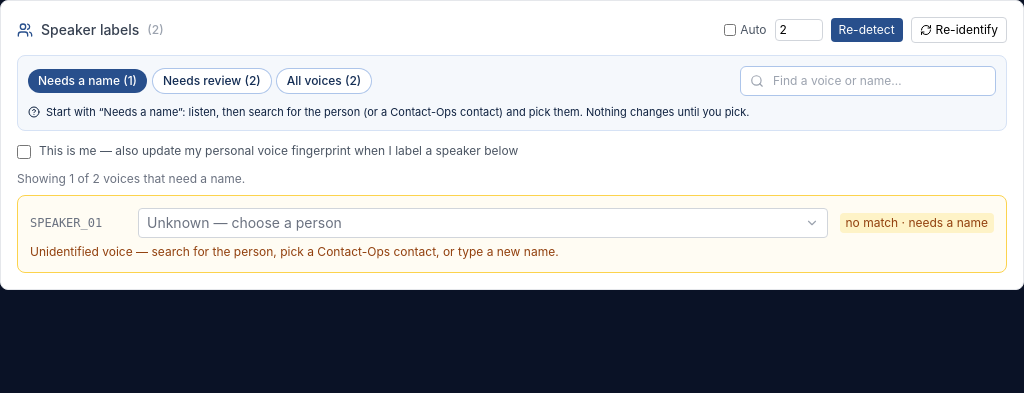
Test: SpeakerTagger › surfaces the auto-match similarity badge when reviewing all voices
The image size is (1024, 393).
Expected: the text "SPEAKER_01" is shown, [30,216,102,230]
Click the button "All voices (2)": (324, 81) [277,69,371,93]
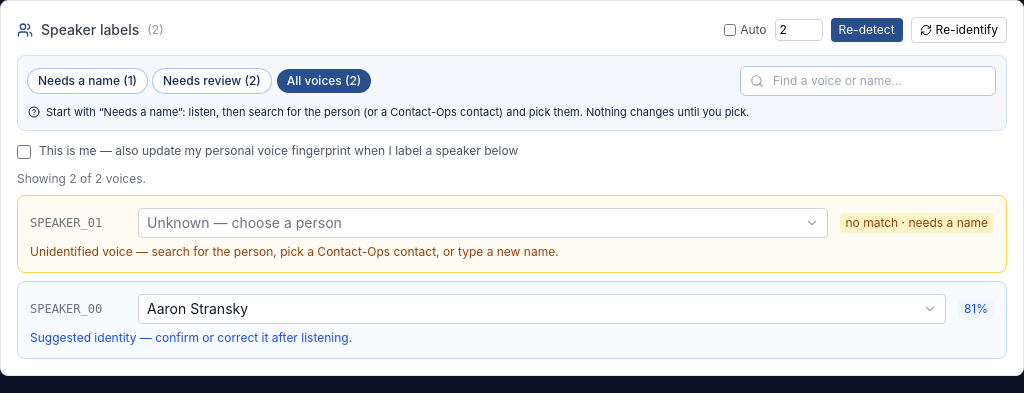
Expected: the text "SPEAKER_01" is shown, [30,216,102,230]
Now the text "SPEAKER_00" is shown, box [30,302,102,316]
Now the text "81%" is shown, box [958,299,994,319]
